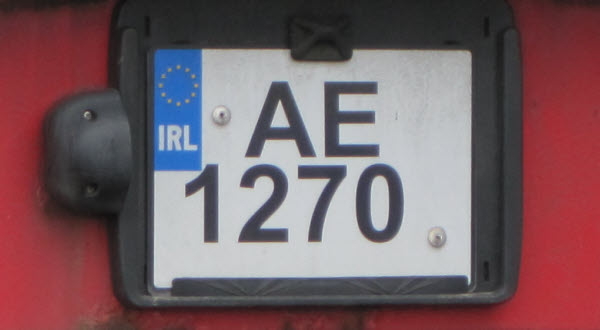license_plate: (145, 44, 476, 297)
